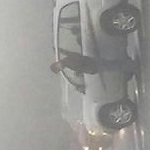person: (49, 54, 137, 76)
